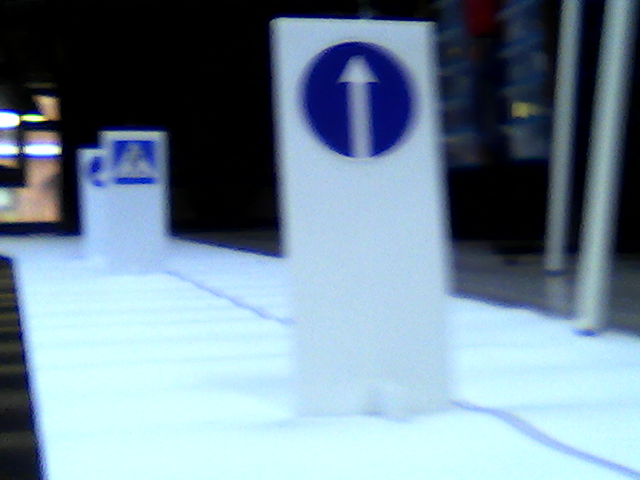forw: (303, 39, 420, 156)
pesh: (114, 138, 156, 186)
